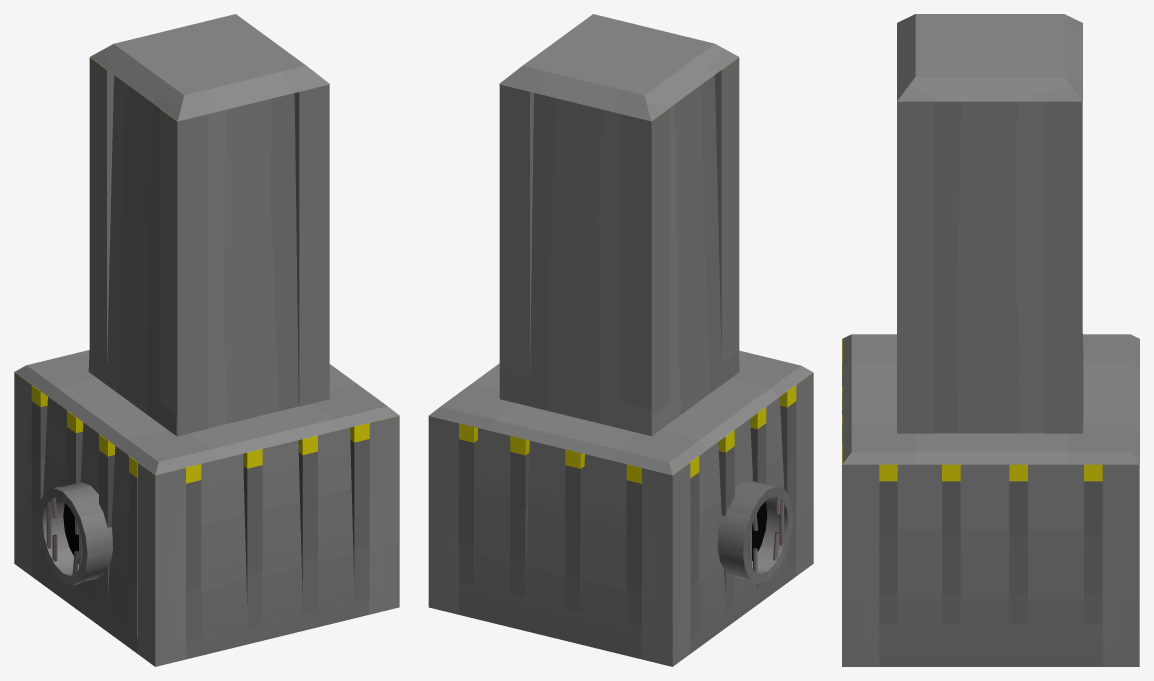
File: Town Hall.fbx
3 renders of one model, left to right at view 1: azimuth 30°, elevation 25°; view 2: azimuth 150°, elevation 25°; view 3: azimuth 270°, elevation 25°, orthographic. The views are drawn at different scales.
Parts seen in each view (by area): view 1: pCube10; view 2: pCube10; view 3: pCube10.
Boxes of the visible parts, x1,y1,x2,y2 form: pCube10: [14, 14, 399, 666]; pCube10: [428, 14, 813, 666]; pCube10: [842, 14, 1139, 666].
Bounding box in the file's own units: 13.16 × 24.91 × 12.01.
